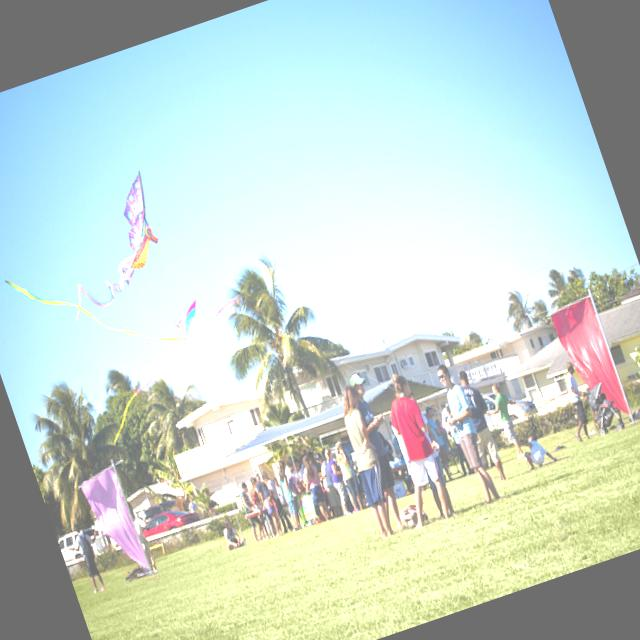Vehicle: (477, 377, 541, 432), (137, 499, 200, 538), (56, 532, 84, 562)
